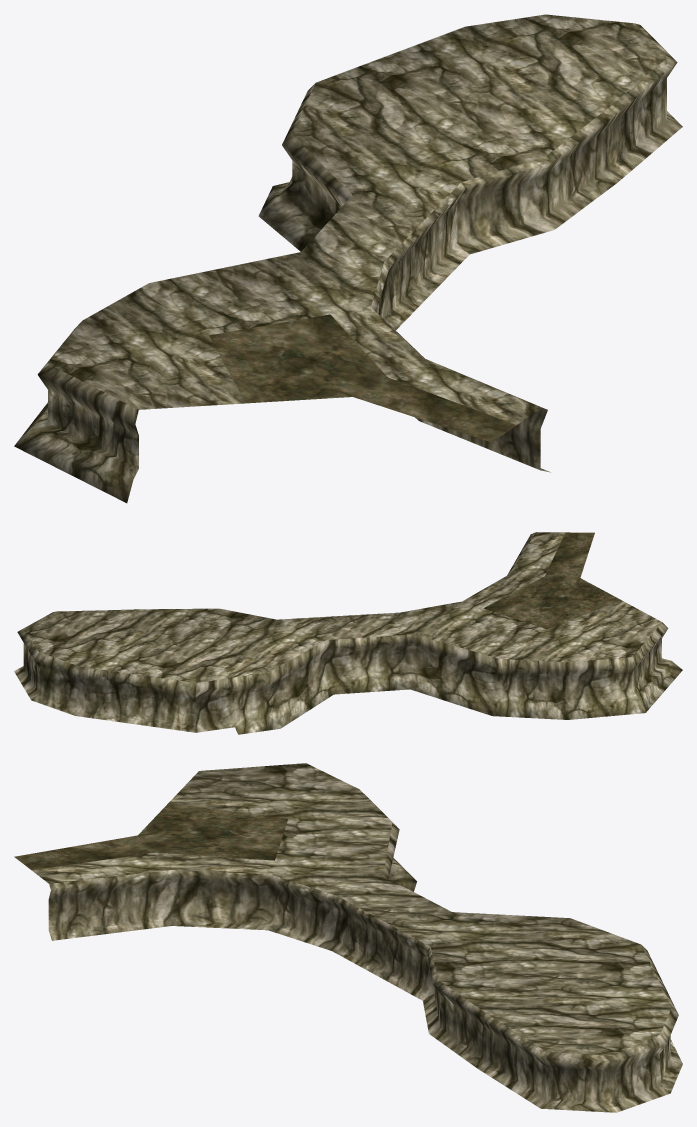
File: CB_NEWPLAYSURFACE_CB_PLAYSURFACE144.fbx
3 renders of one model, top to bottom at view 1: azimuth 30°, elevation 25°; view 2: azimuth 150°, elevation 25°; view 3: azimuth 270°, elevation 25°, orthographic. The views are drawn at different scales.
Parts seen in each view (by area): view 1: CB_NEWPLAYSURFACE_CB_PLAYSURFACE144; view 2: CB_NEWPLAYSURFACE_CB_PLAYSURFACE144; view 3: CB_NEWPLAYSURFACE_CB_PLAYSURFACE144.
Boxes of the visible parts, x1,y1,x2,y2 form: CB_NEWPLAYSURFACE_CB_PLAYSURFACE144: (14,14,682,503); CB_NEWPLAYSURFACE_CB_PLAYSURFACE144: (14,532,682,734); CB_NEWPLAYSURFACE_CB_PLAYSURFACE144: (14,763,682,1112).
Bounding box in the file's own units: 357908 × 33096 × 329172.
3 materials, 3 textured.
